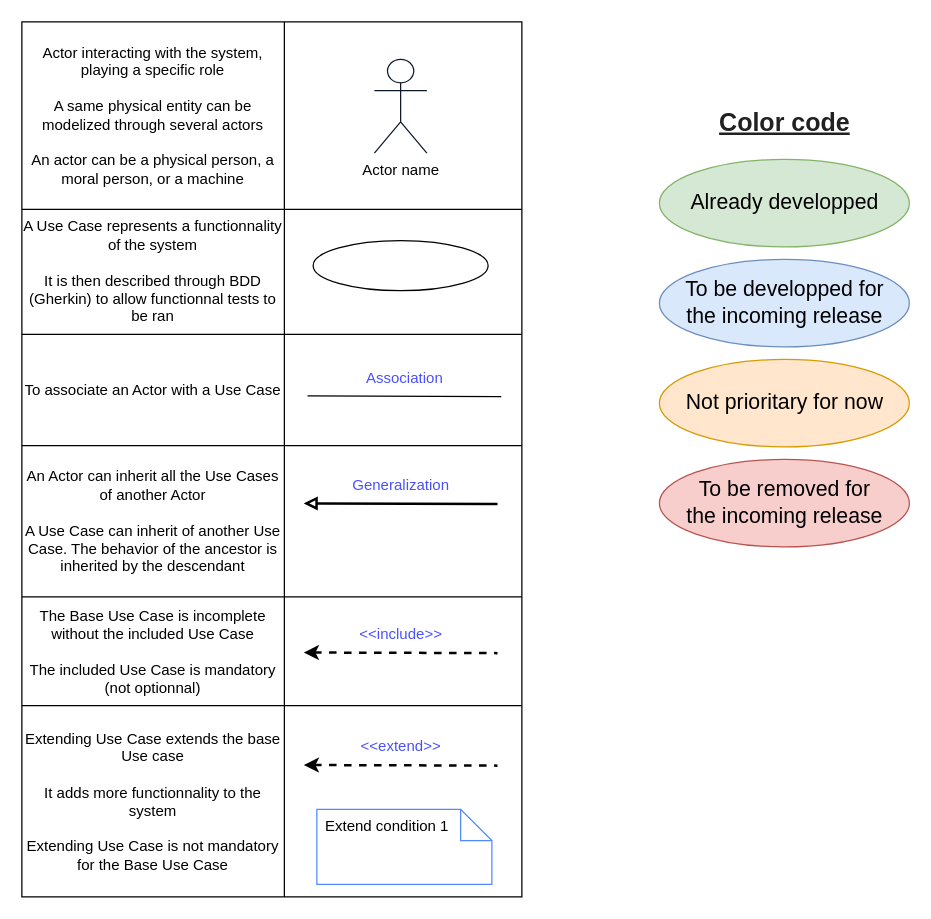
Image size: 931x919. Some labels were removed from this diagram. The shapes that lost their labels are listed below. From the top down, each one's centre as x and y in pixels, then its label:
the point at 400,265: Use Case
the point at 404,846: Extension point 1
